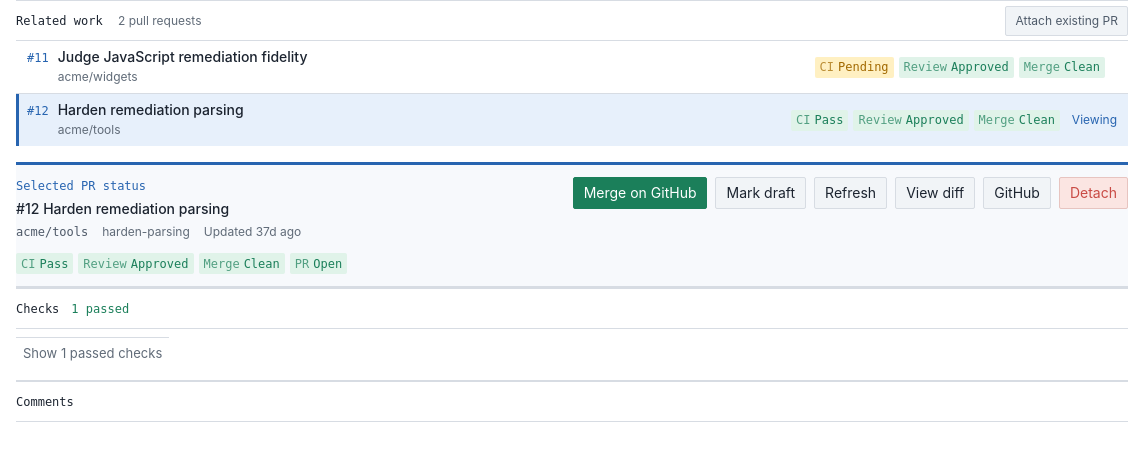
Test: shows PR health in the list and all four statuses in the selected inspector
The width and height of the screenshot is (1145, 472).
Expected: the heading "#12 Harden remediation parsing" is shown, [16,200,229,217]
Expected: the element "Checks" is shown, [16,288,1128,380]
Click the button "Show 1 passed checks" at [93, 353], box [16,337,169,369]
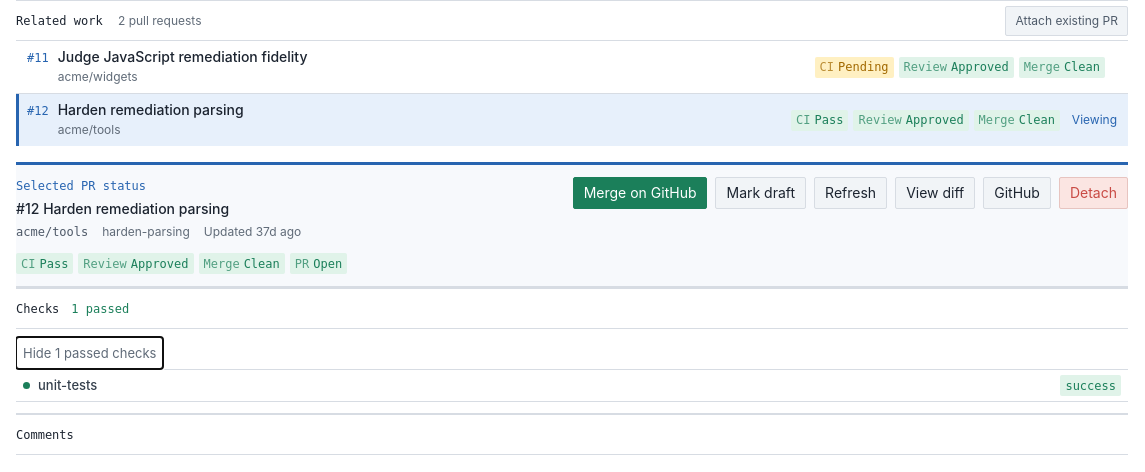
Now the link "unit-tests" is shown, box [38,376,97,396]
